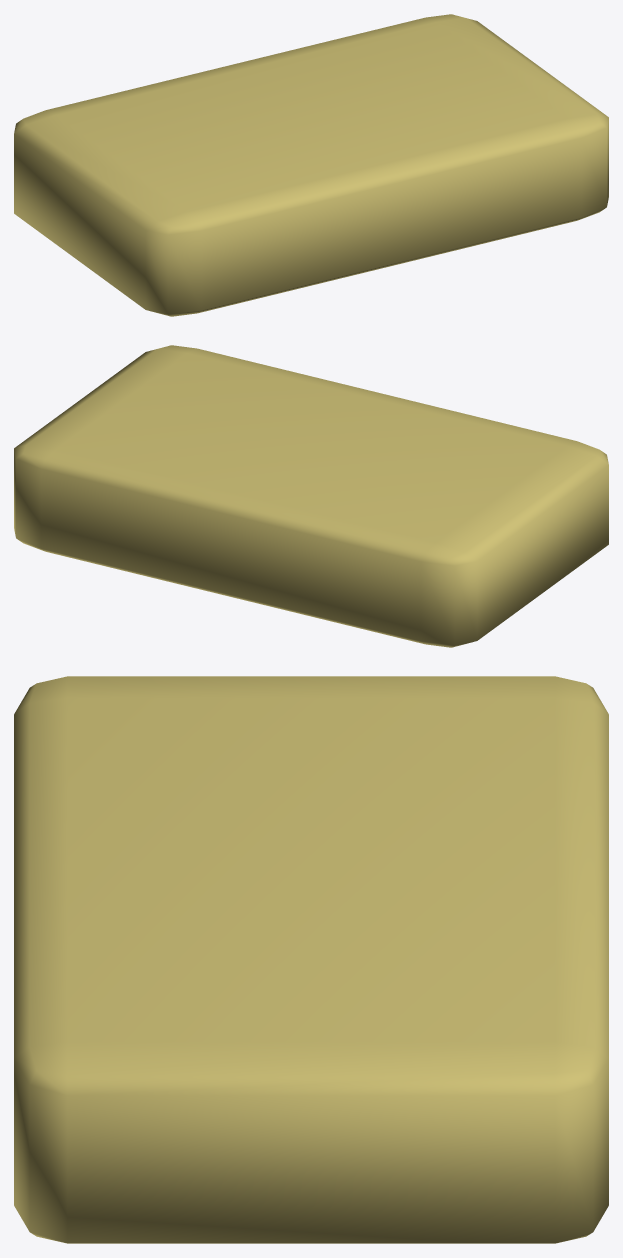
File: CementBag25kg.fbx
3 renders of one model, top to bottom at view 1: azimuth 30°, elevation 25°; view 2: azimuth 150°, elevation 25°; view 3: azimuth 270°, elevation 25°, orthographic. The views are drawn at different scales.
Parts seen in each view (by area): view 1: CementBag25kg; view 2: CementBag25kg; view 3: CementBag25kg.
Part boxes in pixels (bbox=[...]): CementBag25kg: bbox=[14, 14, 608, 316]; CementBag25kg: bbox=[14, 345, 608, 647]; CementBag25kg: bbox=[14, 676, 608, 1243].
Bounding box in the file's own units: 50 × 10 × 30.
